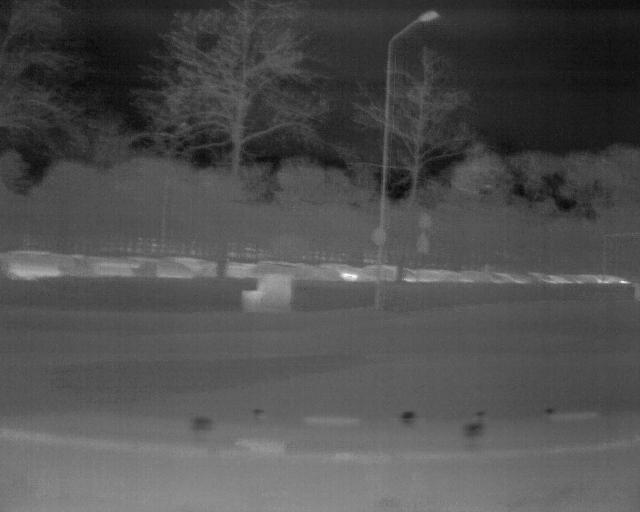car: (155, 250, 226, 278), (2, 251, 64, 280), (237, 257, 314, 280), (317, 256, 376, 283), (85, 247, 133, 278), (167, 250, 218, 277), (361, 263, 421, 283), (429, 265, 489, 284), (526, 265, 577, 286), (584, 266, 630, 285)
